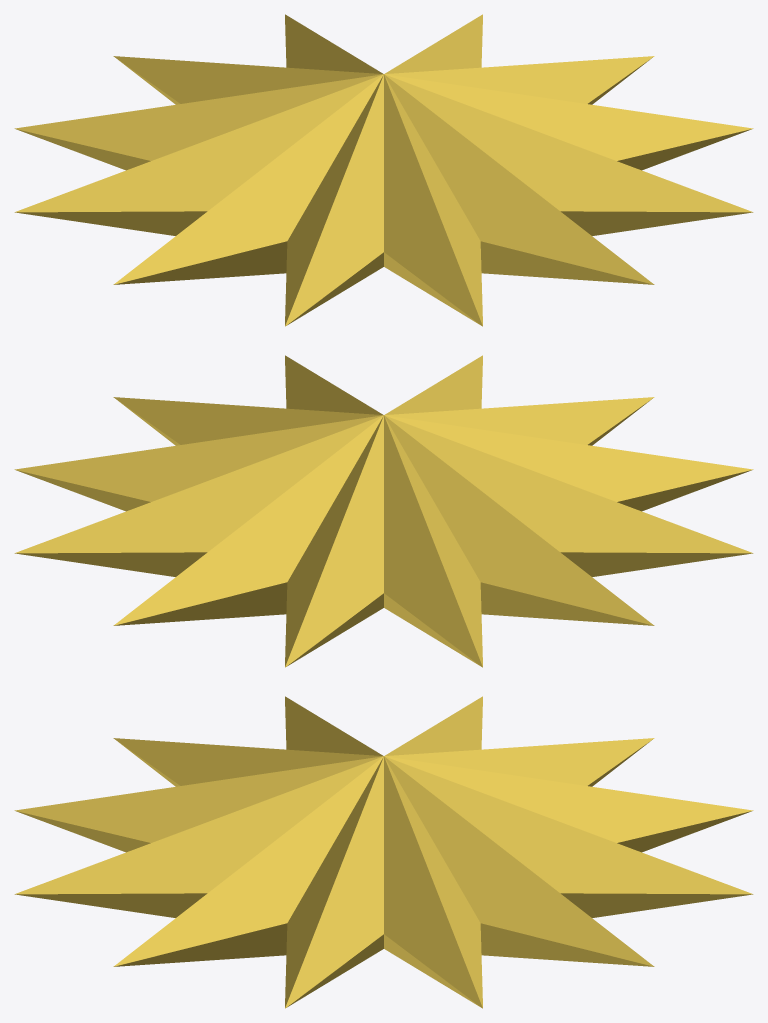
Rendered from star-02.glb.
The picture shows the model from 3 angles, top to bottom: view 1: azimuth 30°, elevation 25°; view 2: azimuth 150°, elevation 25°; view 3: azimuth 270°, elevation 25°; orthographic projection.
Visible parts, largest first — view 1: multstr; view 2: multstr; view 3: multstr.
Boxes of the visible parts, box(x1,y1,x2,y2) form: multstr: box(14, 14, 753, 326); multstr: box(14, 355, 753, 667); multstr: box(14, 696, 753, 1008).
Size of the model in its own units: 1.93 by 0.555 by 1.93.
